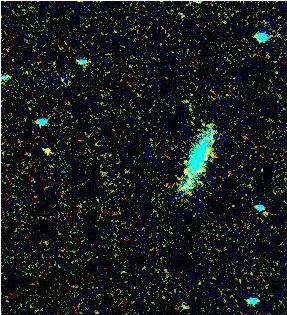star: (31, 137, 61, 167)
